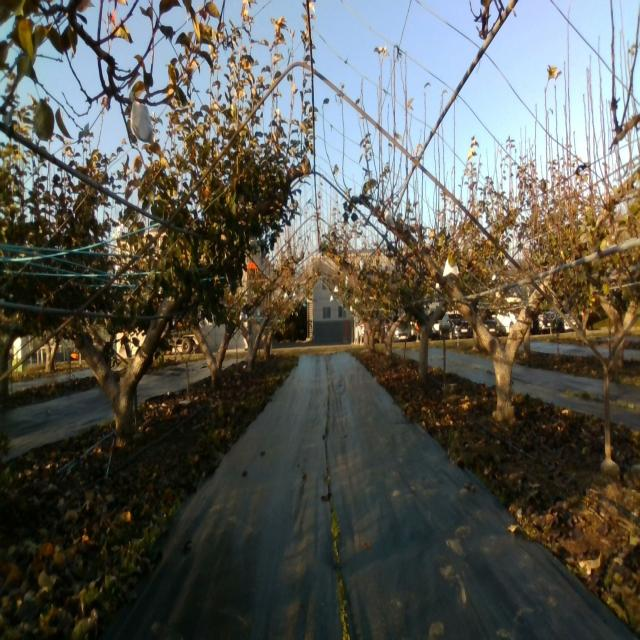pearbags: (129, 90, 155, 148), (443, 257, 459, 277), (384, 210, 396, 228), (247, 231, 258, 250)
